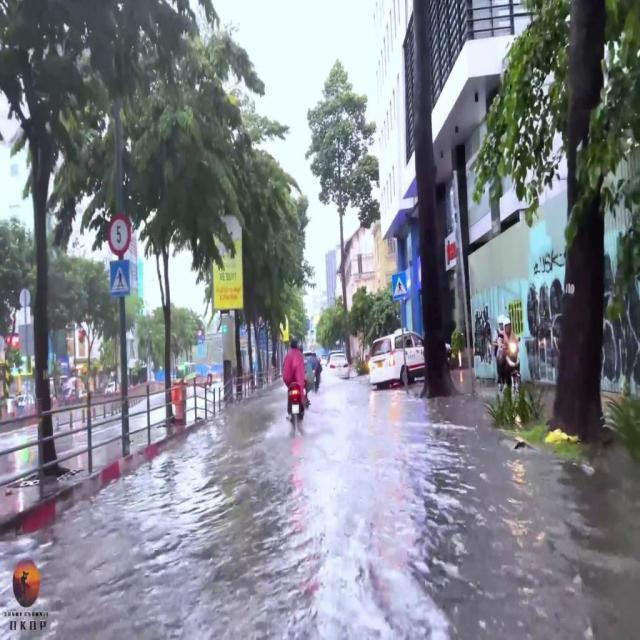224-duong-nguoi-di-bo-cat-ngang: (107, 258, 131, 294), (390, 270, 411, 298)
